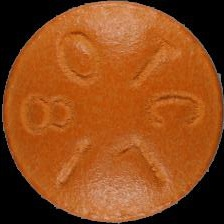0904-5643: (0, 0, 224, 224)
